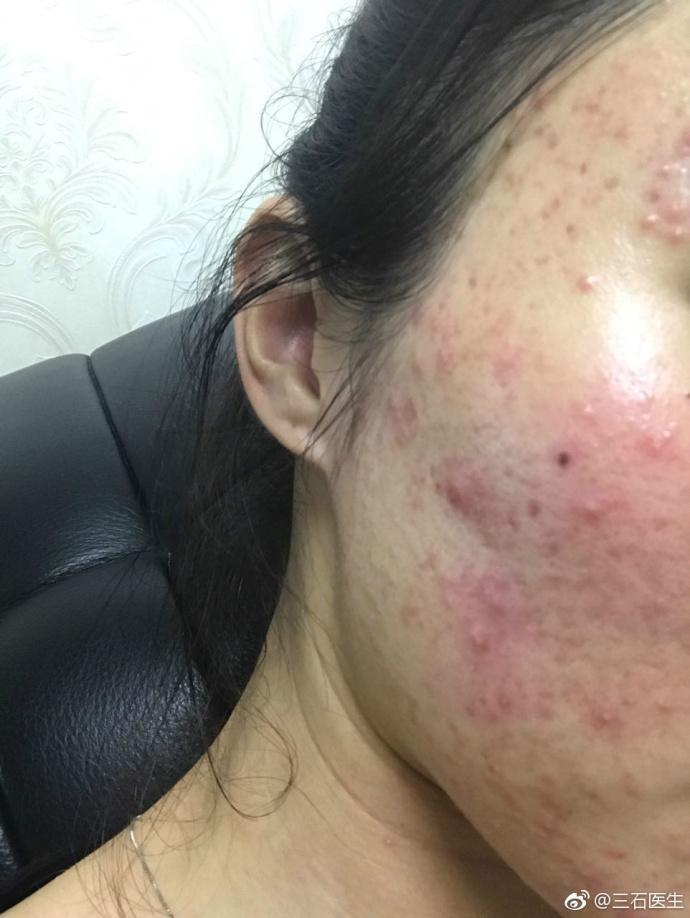fore: (457, 610, 508, 671), (473, 337, 530, 388), (571, 483, 622, 530), (547, 606, 591, 658), (585, 107, 630, 156), (430, 563, 469, 616), (426, 461, 467, 510), (628, 549, 669, 595), (559, 76, 612, 111), (459, 679, 494, 732), (487, 764, 520, 815), (536, 685, 571, 732), (599, 823, 634, 870), (496, 677, 534, 720), (414, 331, 451, 371), (528, 775, 565, 815), (642, 492, 677, 534), (516, 78, 561, 109), (382, 410, 416, 451), (514, 111, 551, 148), (378, 380, 414, 418), (481, 573, 520, 608), (530, 186, 561, 229), (579, 697, 616, 732), (654, 685, 683, 724), (575, 862, 606, 895), (555, 563, 589, 593), (410, 296, 439, 331), (626, 196, 654, 231), (424, 314, 463, 339), (569, 260, 597, 292), (536, 809, 563, 840), (665, 209, 683, 251), (561, 842, 585, 868), (502, 160, 524, 188), (661, 141, 671, 182), (675, 528, 679, 542)
